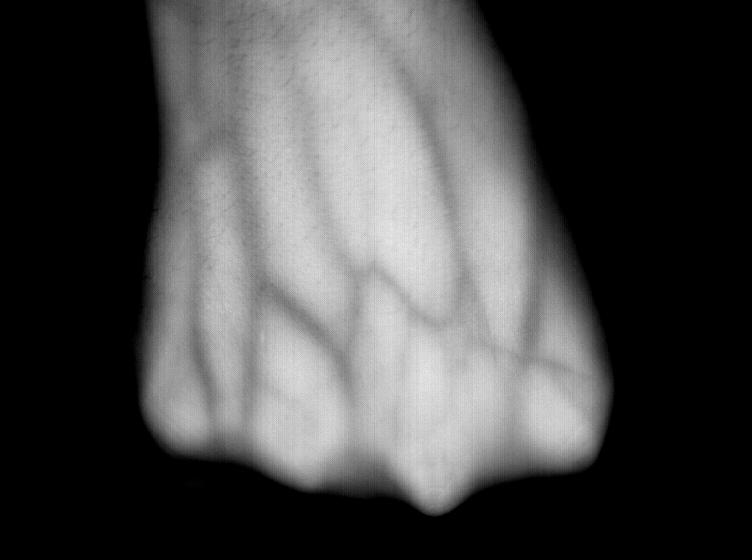Vein: (185, 52, 364, 390), (388, 64, 549, 364)
